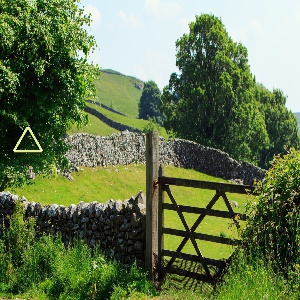triangle: (12, 125, 44, 154)
